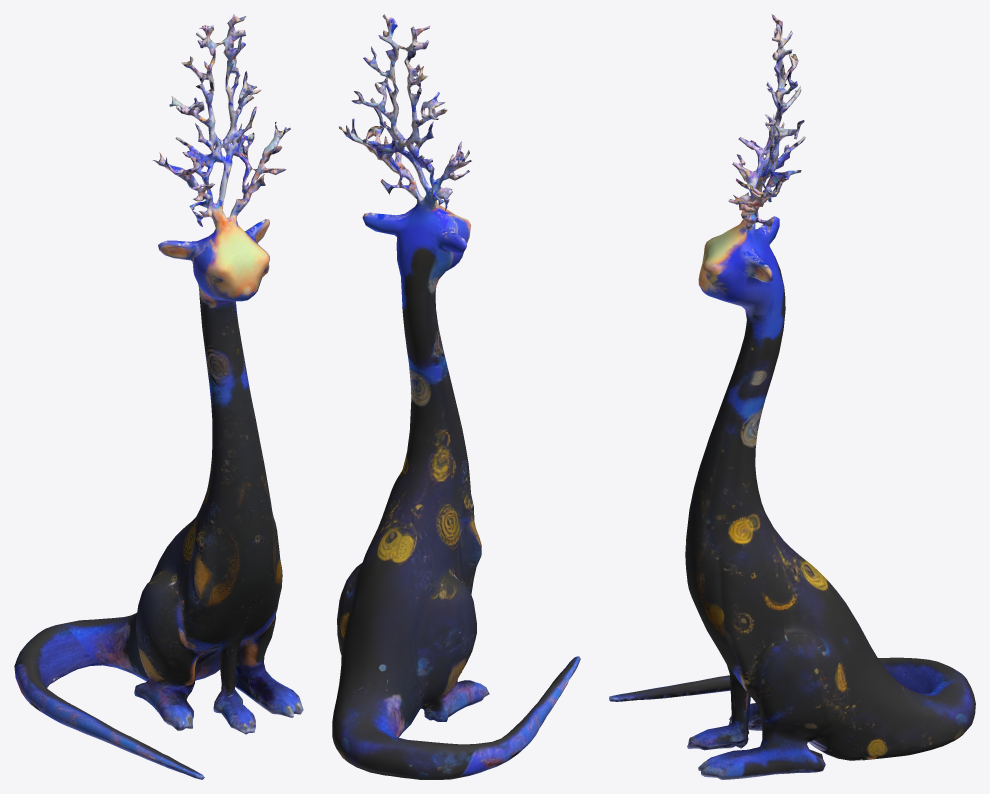
The model's file is DimensionKong.fbx.
The picture shows the model from 3 angles, left to right: view 1: azimuth 30°, elevation 25°; view 2: azimuth 150°, elevation 25°; view 3: azimuth 270°, elevation 25°; orthographic projection. The views are drawn at different scales.
Visible parts, largest first — view 1: Mesh1.0; view 2: Mesh1.0; view 3: Mesh1.0.
Part boxes in pixels (x1,y1,x2,y2): Mesh1.0: (14,14,303,779); Mesh1.0: (332,14,580,779); Mesh1.0: (609,14,975,779).
Bounding box in the file's own units: 64.06 × 192 × 87.25.
Materials: 1 (1 with a texture image).
